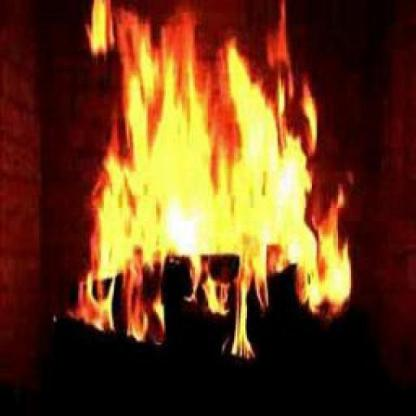fire: (55, 0, 356, 359)
